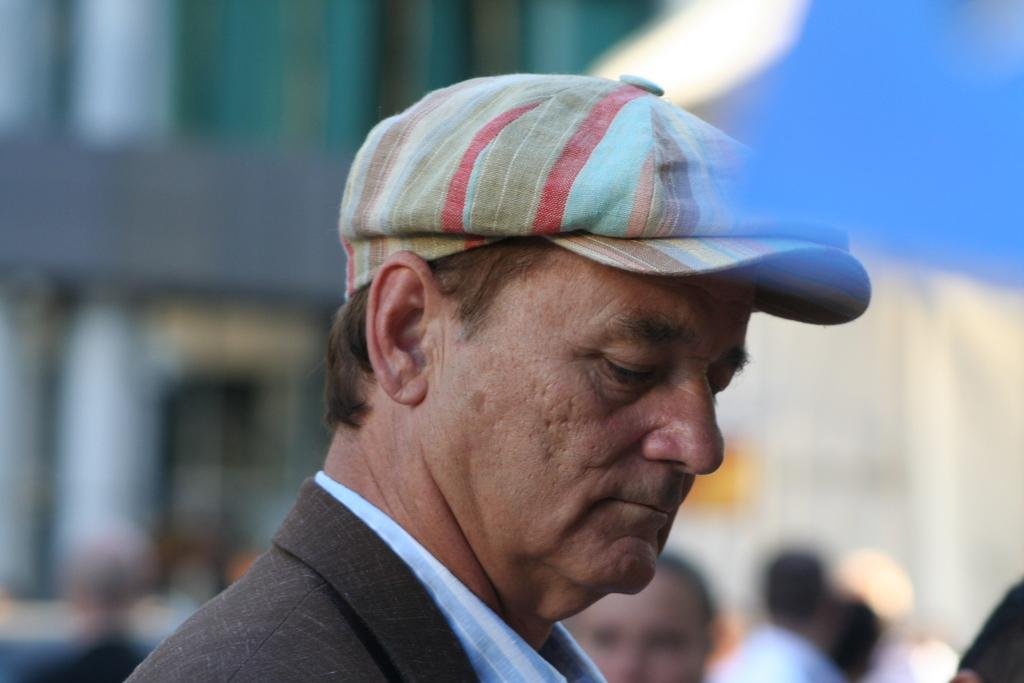Hat: (338, 71, 870, 325)
